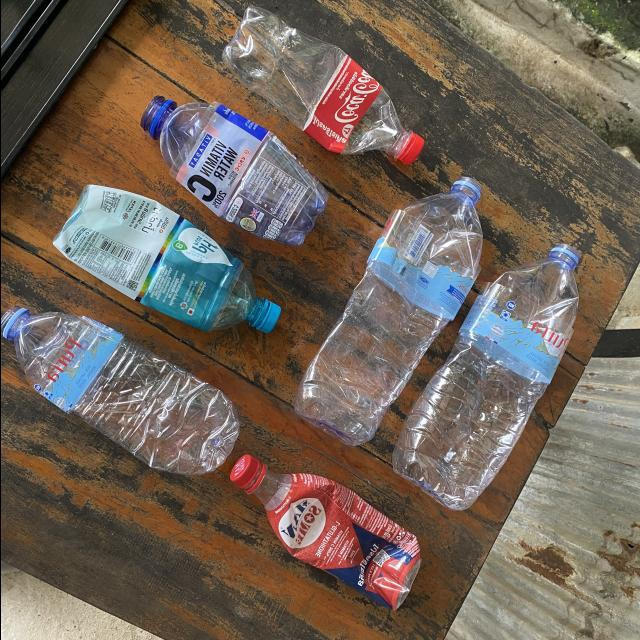plastik: (294, 178, 482, 445), (392, 244, 578, 511), (0, 306, 238, 476), (53, 184, 279, 332), (221, 7, 423, 165), (229, 455, 419, 611), (139, 96, 327, 246)
